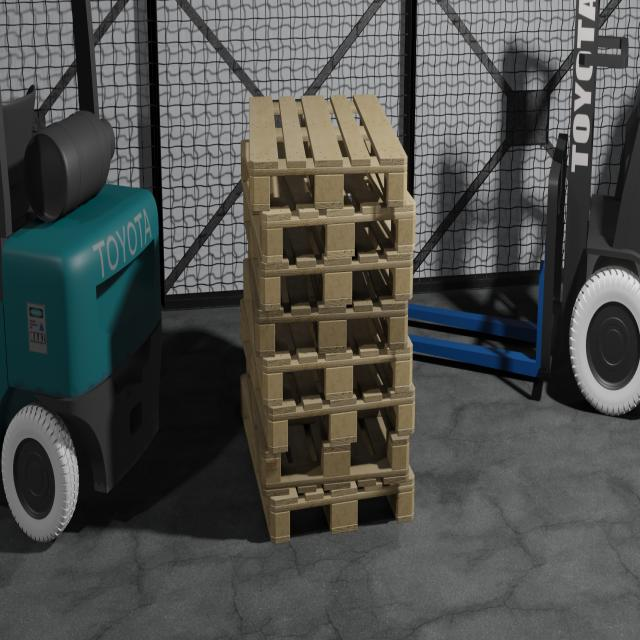block: (309, 162, 350, 208), (323, 218, 363, 256), (316, 317, 354, 354), (249, 167, 275, 214), (329, 494, 361, 532), (324, 360, 356, 398), (385, 307, 410, 354), (265, 215, 288, 266), (386, 164, 412, 208), (269, 502, 294, 546), (330, 410, 364, 442), (324, 272, 357, 304), (394, 261, 417, 306), (261, 272, 285, 314), (393, 215, 418, 255), (266, 364, 287, 408), (323, 446, 352, 476), (258, 317, 280, 356), (397, 483, 417, 522), (391, 436, 410, 474), (398, 401, 418, 436), (394, 357, 414, 392), (271, 416, 289, 452), (265, 454, 284, 488)
front: (266, 473, 422, 538), (244, 157, 411, 208), (261, 209, 419, 262), (257, 267, 418, 310), (259, 313, 412, 354), (266, 360, 416, 398), (271, 404, 419, 436)
